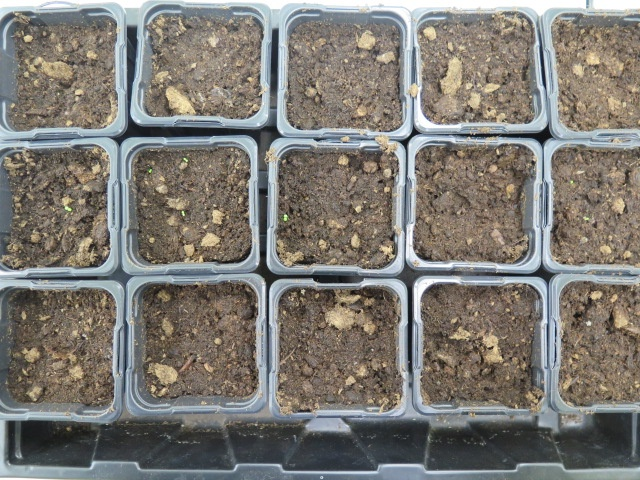weed: (279, 210, 291, 226), (61, 204, 75, 215)
